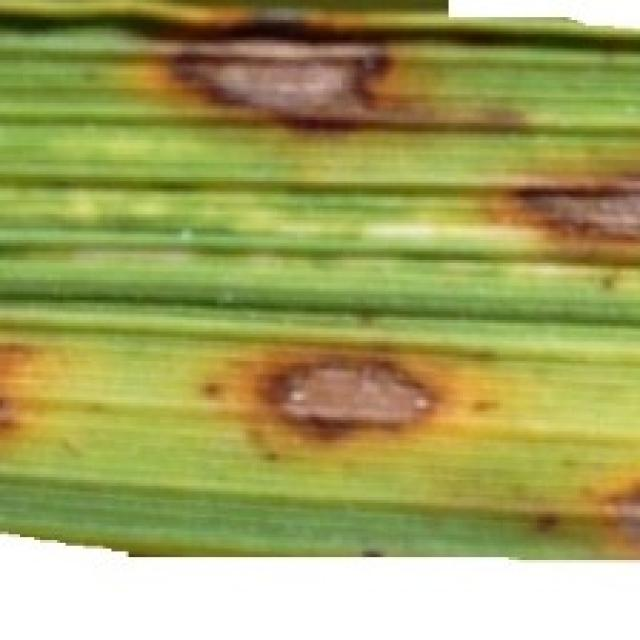Rice___Brown_Spot: (0, 0, 637, 563)
